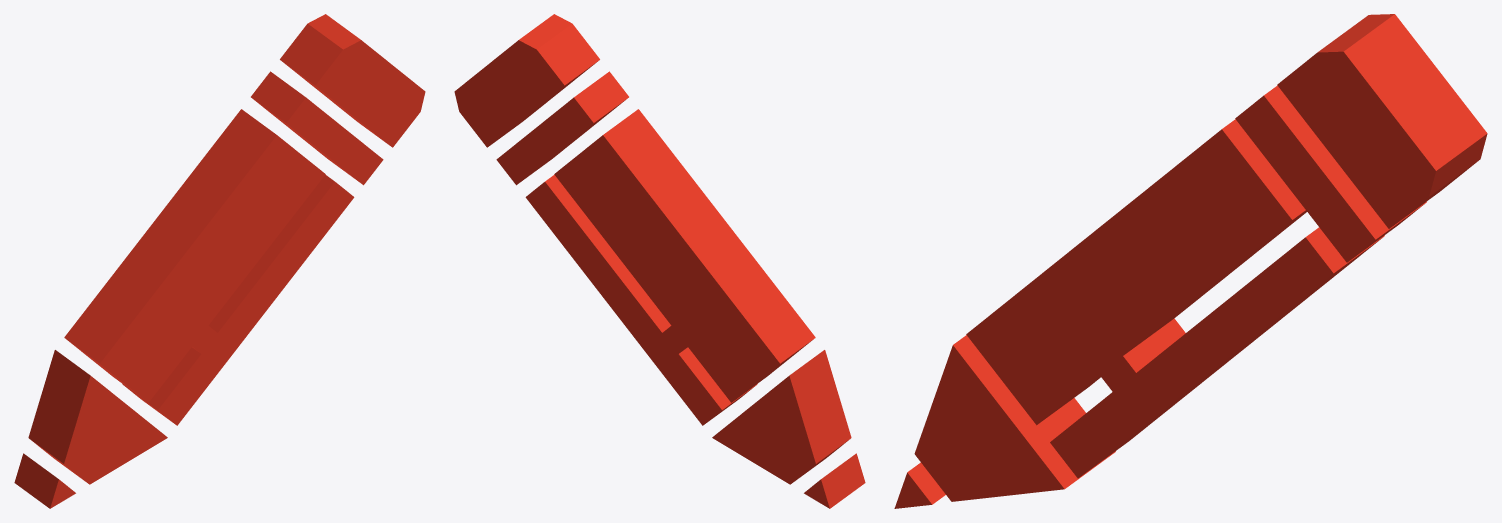
Rendered from Icon_Pencil.fbx.
The picture shows the model from 3 angles, left to right: view 1: azimuth 30°, elevation 25°; view 2: azimuth 150°, elevation 25°; view 3: azimuth 330°, elevation 25°; orthographic projection. The views are drawn at different scales.
Visible parts, largest first — view 1: Icon_Pencil; view 2: Icon_Pencil; view 3: Icon_Pencil.
Boxes of the visible parts, <box> form: Icon_Pencil: <box>14,14,425,508</box>; Icon_Pencil: <box>454,14,865,508</box>; Icon_Pencil: <box>894,14,1487,508</box>.
Bounding box in the file's own units: 73.37 × 73.37 × 12.06.
